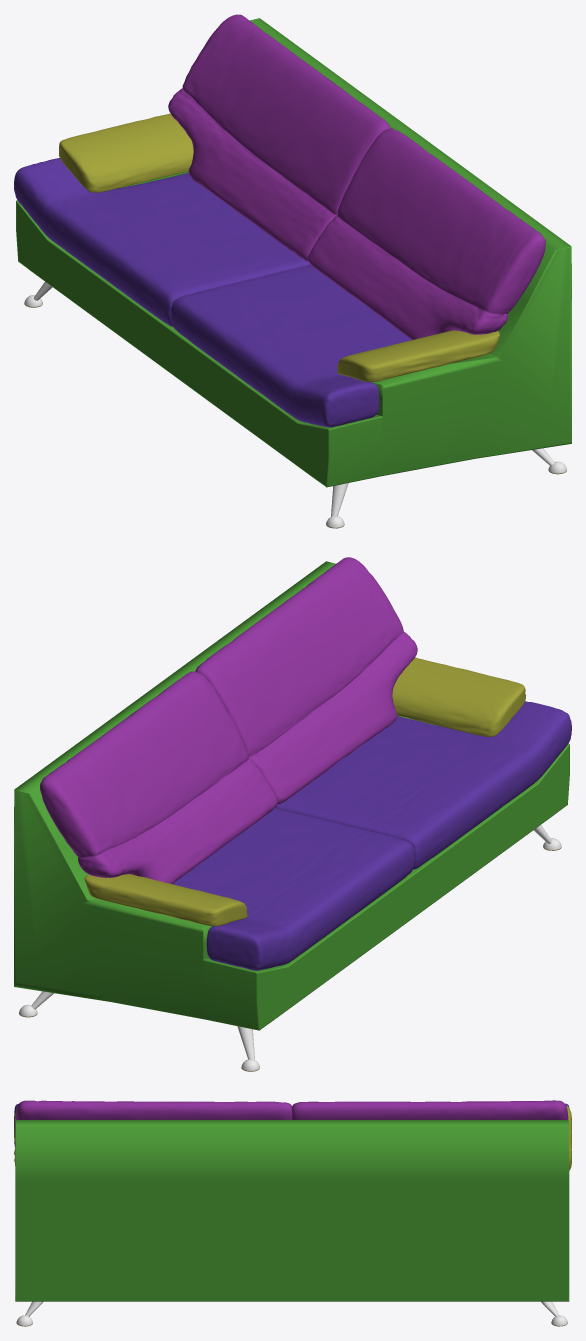
Rendered from couch.fbx.
3 views of the same model, one above another, from view 1: azimuth 30°, elevation 25°; view 2: azimuth 150°, elevation 25°; view 3: azimuth 270°, elevation 25° (orthographic). The views are drawn at different scales.
Parts seen in each view (by area): view 1: espaldar_sofa, sofa_base, sofa_cojin, sofa_brazos; view 2: espaldar_sofa, sofa_base, sofa_cojin, sofa_brazos; view 3: sofa_base, espaldar_sofa.
Part boxes in pixels (x1,y1,x2,y2): espaldar_sofa: (168,14,545,339); sofa_base: (16,18,571,528); sofa_cojin: (14,158,411,427); sofa_brazos: (59,113,499,381); espaldar_sofa: (40,557,417,884); sofa_base: (14,561,569,1071); sofa_cojin: (173,701,571,970); sofa_brazos: (84,657,525,926); sofa_base: (15,1120,569,1326); espaldar_sofa: (16,1100,568,1119).
Bounding box in the file's own units: 91.24 × 84.87 × 201.
